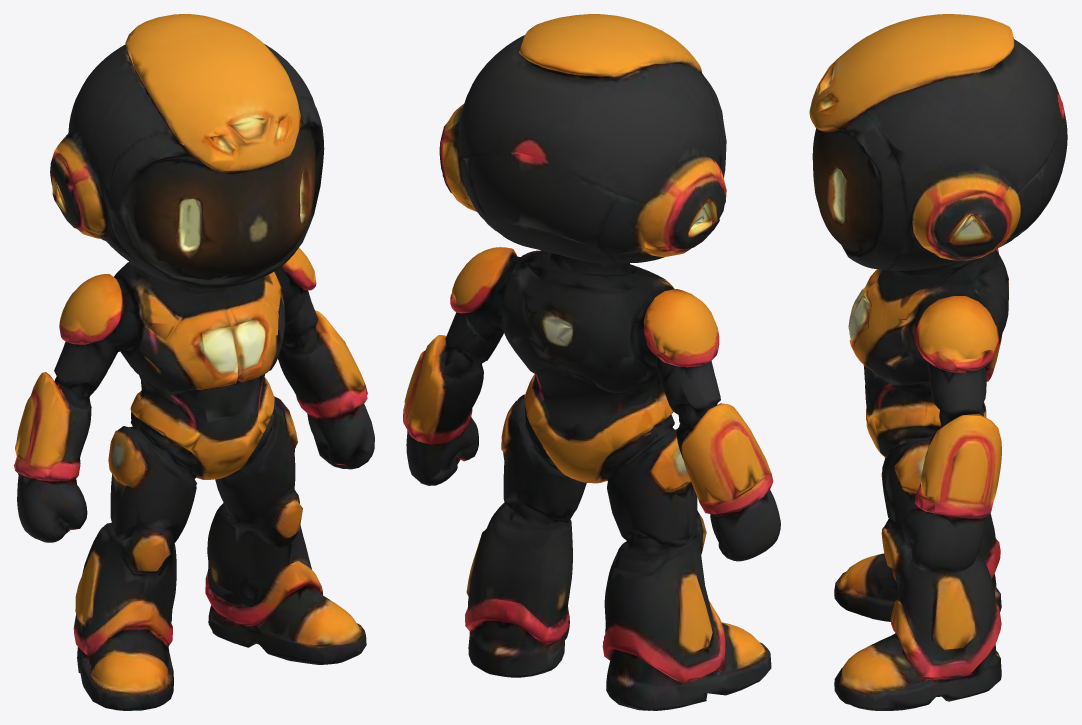
File: avatar-brasa.glb
The picture shows the model from 3 angles, left to right: view 1: azimuth 30°, elevation 25°; view 2: azimuth 150°, elevation 25°; view 3: azimuth 270°, elevation 25°; orthographic projection. The views are drawn at different scales.
Parts seen in each view (by area): view 1: tripo_node_f20af14e-2679-4158-ade4-35b4ec04ecca; view 2: tripo_node_f20af14e-2679-4158-ade4-35b4ec04ecca; view 3: tripo_node_f20af14e-2679-4158-ade4-35b4ec04ecca.
Part boxes in pixels (<box>): tripo_node_f20af14e-2679-4158-ade4-35b4ec04ecca: <box>14,14,374,710</box>; tripo_node_f20af14e-2679-4158-ade4-35b4ec04ecca: <box>403,14,780,710</box>; tripo_node_f20af14e-2679-4158-ade4-35b4ec04ecca: <box>809,14,1067,710</box>.
Size of the model in its own units: 0.5882 by 1 by 0.3772.
1 material, 1 textured.
